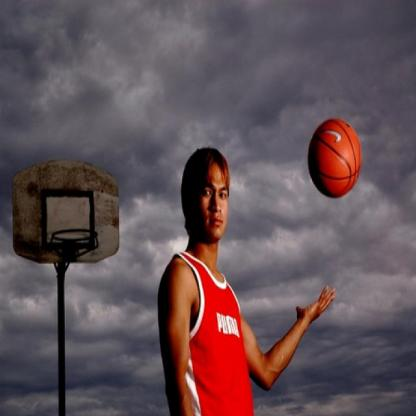basketball: (308, 118, 362, 198)
rim: (51, 228, 98, 247)
